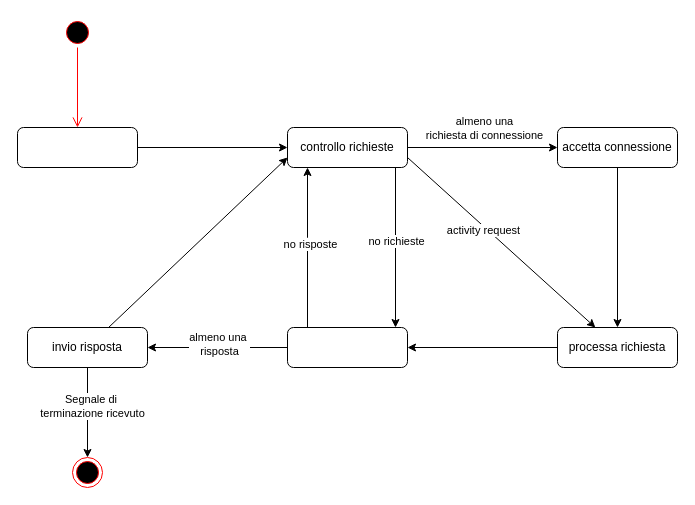
This 695x505 diagram has some shape labels left out. Here are the shapes that lost their labels. From the top down, the centre of each, then its label:
(77,147): setup
(347,347): controllo risposta
